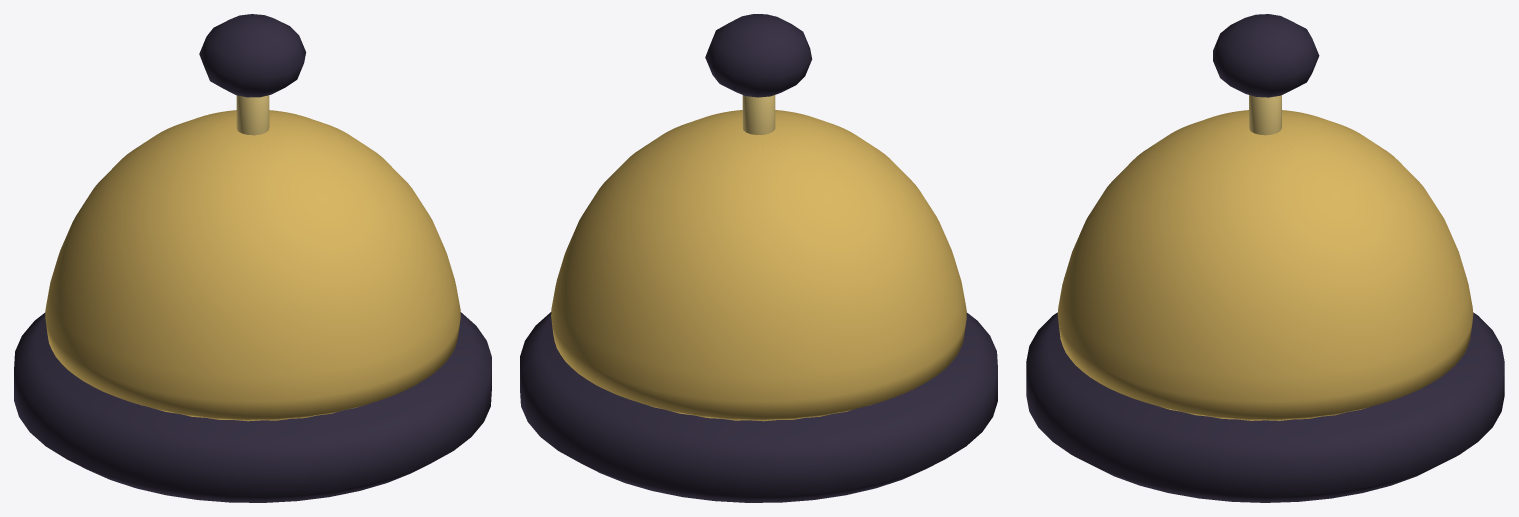
The model's file is counter_bell.glb.
The picture shows the model from 3 angles, left to right: view 1: azimuth 30°, elevation 25°; view 2: azimuth 150°, elevation 25°; view 3: azimuth 270°, elevation 25°; orthographic projection.
Visible parts, largest first — view 1: Gold_bell_dome, Dark_circular_base, Push_button, Connected_plunger; view 2: Gold_bell_dome, Dark_circular_base, Push_button, Connected_plunger; view 3: Gold_bell_dome, Dark_circular_base, Push_button, Connected_plunger.
Boxes of the visible parts, box(x1,y1,x2,y2) form: Gold_bell_dome: box(45, 110, 460, 421); Dark_circular_base: box(14, 312, 491, 502); Push_button: box(199, 14, 306, 97); Connected_plunger: box(236, 95, 269, 135); Gold_bell_dome: box(551, 110, 966, 421); Dark_circular_base: box(520, 312, 997, 502); Push_button: box(705, 14, 812, 97); Connected_plunger: box(742, 95, 775, 134); Gold_bell_dome: box(1057, 110, 1473, 420); Dark_circular_base: box(1026, 312, 1504, 502); Push_button: box(1213, 14, 1319, 97); Connected_plunger: box(1249, 95, 1281, 135).
Size of the model in its own units: 0.204 by 0.1846 by 0.204.
